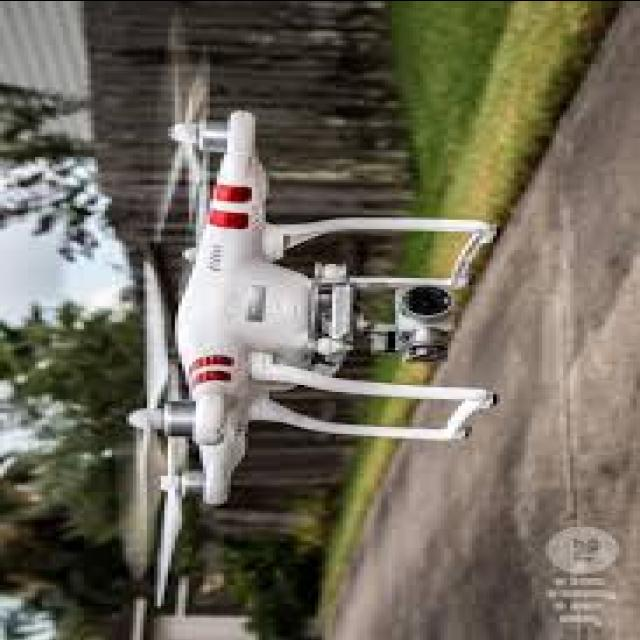drone: (83, 29, 509, 597)
